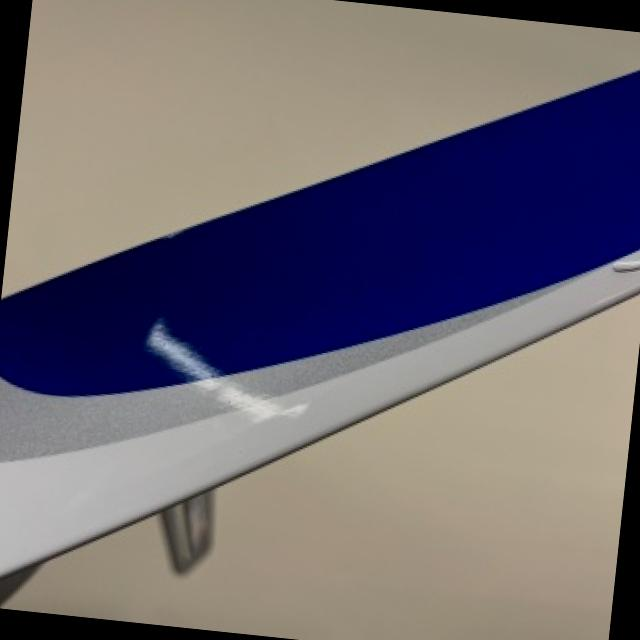healthy: (0, 295, 640, 640)
